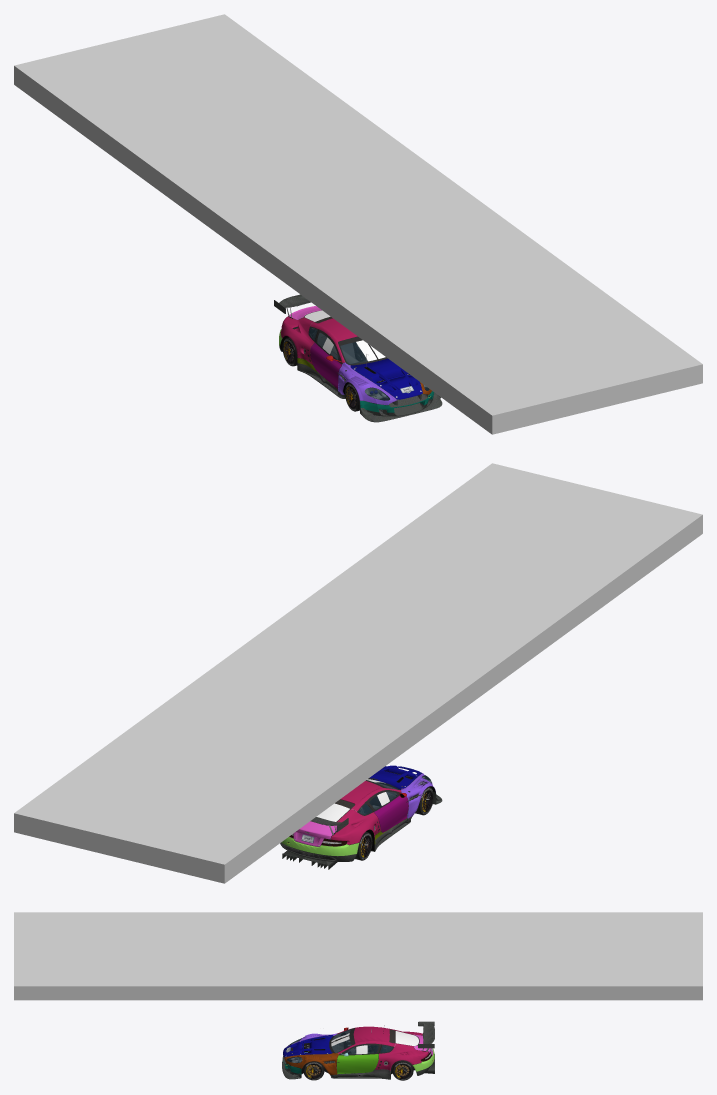
File: DBR9.obj
The picture shows the model from 3 angles, top to bottom: view 1: azimuth 30°, elevation 25°; view 2: azimuth 150°, elevation 25°; view 3: azimuth 270°, elevation 25°; orthographic projection. The views are drawn at different scales.
Parts seen in each view (by area): view 1: reflect_box01, Body, Hood, BumperF, FenderR, WindF, DoorR; view 2: reflect_box01, Body, BumperR, DoorR, Hood, Trunk, FenderR; view 3: reflect_box01, Body, DoorL, Hood, FenderL, WindF, Spoiler, SkirtL, WindR, WindFL, Base, BumperR (+1 smaller).
Boxes of the visible parts, left/top/right/bottom form: reflect_box01: left=14, top=14, right=702, bottom=434; Body: left=280, top=316, right=423, bottom=412; Hood: left=351, top=354, right=422, bottom=399; BumperF: left=360, top=389, right=442, bottom=422; FenderR: left=338, top=362, right=397, bottom=404; WindF: left=338, top=336, right=387, bottom=365; DoorR: left=310, top=343, right=342, bottom=389; reflect_box01: left=14, top=463, right=702, bottom=883; Body: left=290, top=775, right=427, bottom=846; BumperR: left=280, top=837, right=359, bottom=869; DoorR: left=374, top=791, right=408, bottom=832; Hood: left=369, top=765, right=422, bottom=789; Trunk: left=293, top=821, right=336, bottom=846; FenderR: left=401, top=773, right=435, bottom=823; reflect_box01: left=14, top=912, right=702, bottom=1000; Body: left=294, top=1026, right=430, bottom=1074; DoorL: left=336, top=1051, right=378, bottom=1074; Hood: left=283, top=1028, right=333, bottom=1057; FenderL: left=284, top=1053, right=338, bottom=1077; WindF: left=329, top=1028, right=355, bottom=1053; Spoiler: left=418, top=1021, right=434, bottom=1051; SkirtL: left=331, top=1069, right=390, bottom=1079; WindR: left=389, top=1029, right=419, bottom=1045; WindFL: left=344, top=1043, right=381, bottom=1055; Base: left=291, top=1025, right=428, bottom=1074; BumperR: left=412, top=1048, right=434, bottom=1075.
Size of what is drawn, in the model's own units: 5.37 by 4 by 21.13.
Materials: 44 (25 with a texture image).
